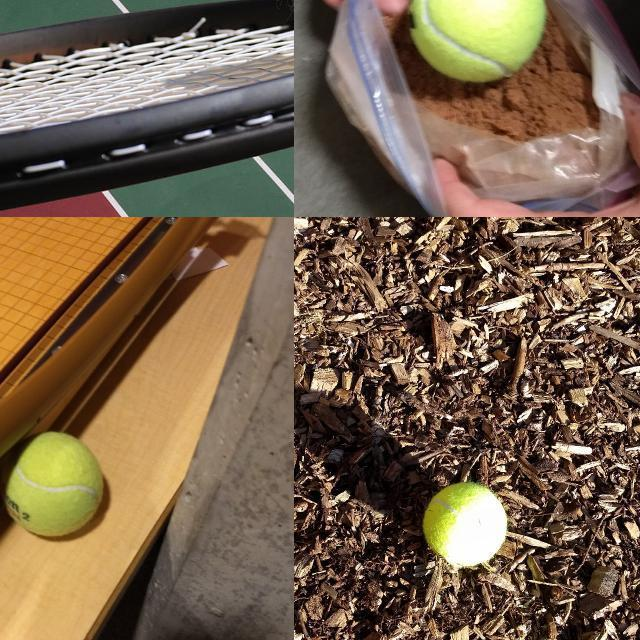tennis-ball: (408, 0, 547, 84), (0, 429, 105, 539), (421, 481, 508, 566)
